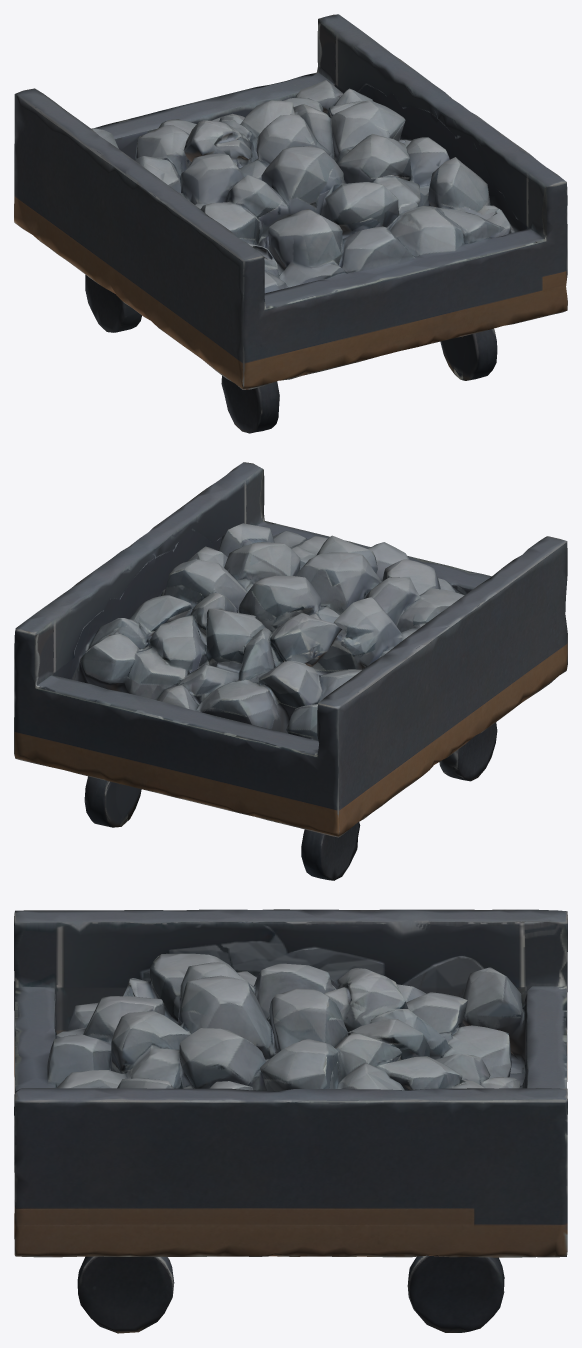
File: LoadedMineCart.fbx
3 renders of one model, top to bottom at view 1: azimuth 30°, elevation 25°; view 2: azimuth 150°, elevation 25°; view 3: azimuth 270°, elevation 25°, orthographic. The views are drawn at different scales.
Parts seen in each view (by area): view 1: texture_mapping; view 2: texture_mapping; view 3: texture_mapping.
Part boxes in pixels (x1,y1,x2,y2): texture_mapping: [14, 14, 567, 433]; texture_mapping: [14, 462, 567, 880]; texture_mapping: [14, 909, 567, 1333].
Size of the model in its own units: 0.8214 by 1 by 0.5444.
Materials: 1 (1 with a texture image).
